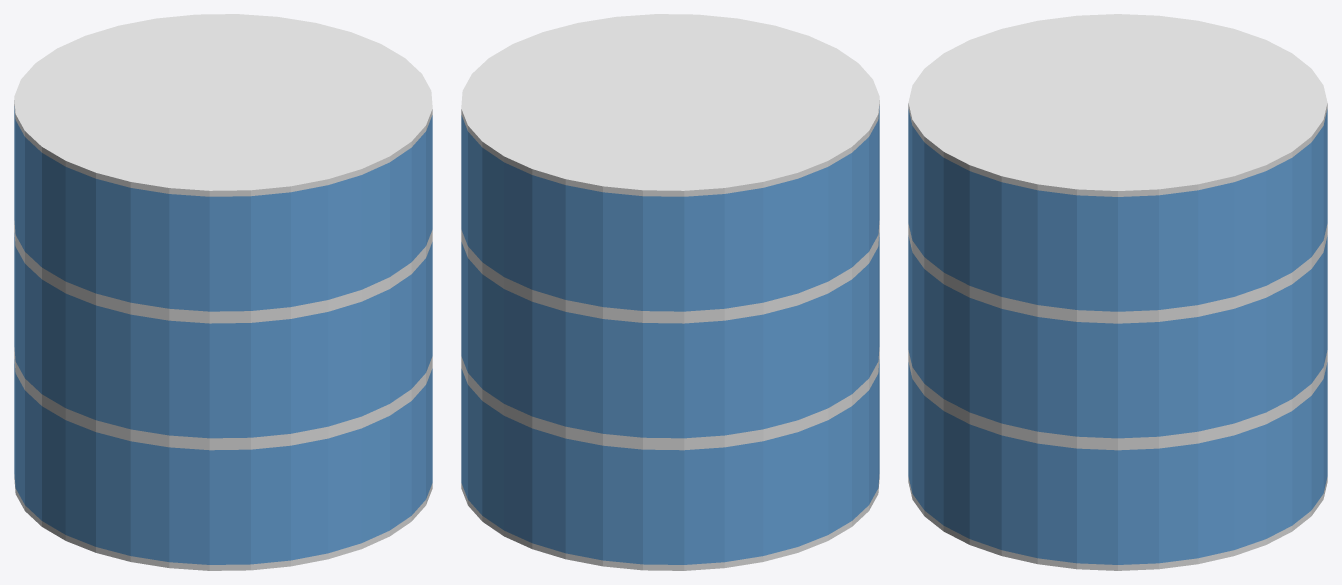
Rendered from building_1x1_0_f.glb.
3 views of the same model, side by side, from view 1: azimuth 30°, elevation 25°; view 2: azimuth 150°, elevation 25°; view 3: azimuth 270°, elevation 25° (orthographic).
Parts seen in each view (by area): view 1: Cylinder.001; view 2: Cylinder.001; view 3: Cylinder.001.
Part boxes in pixels (<box>): Cylinder.001: <box>14,14,432,570</box>; Cylinder.001: <box>461,14,879,570</box>; Cylinder.001: <box>908,14,1327,570</box>.
Size of the model in its own units: 1.6 by 1.6 by 1.6.
